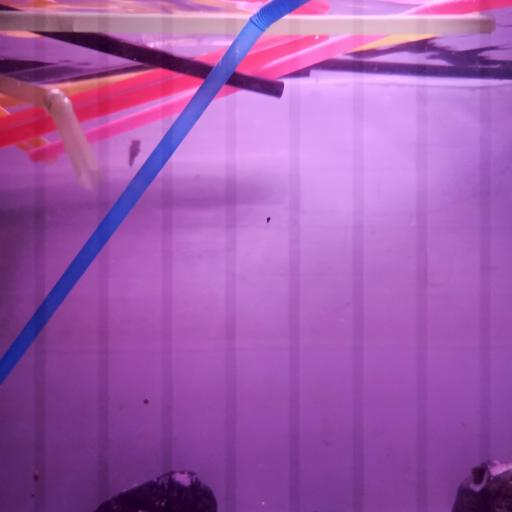plastic_straw: (0, 0, 308, 383), (28, 0, 512, 163), (0, 33, 332, 148), (24, 29, 286, 99), (0, 11, 495, 39), (2, 72, 101, 193), (2, 68, 151, 106), (285, 58, 512, 82)
